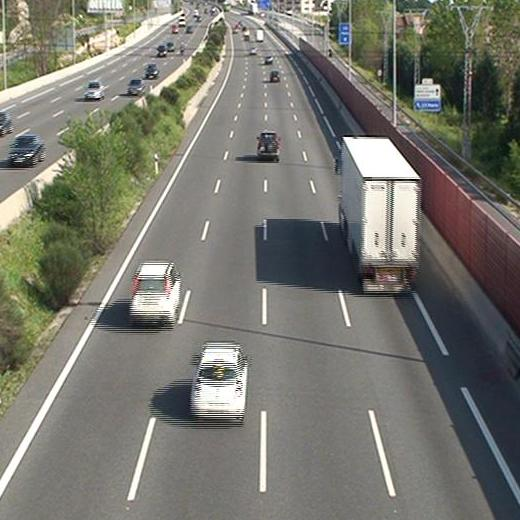car: (190, 342, 246, 417), (128, 263, 178, 321), (257, 132, 279, 158), (269, 70, 279, 82), (264, 55, 272, 63)
truck: (340, 137, 420, 293)
